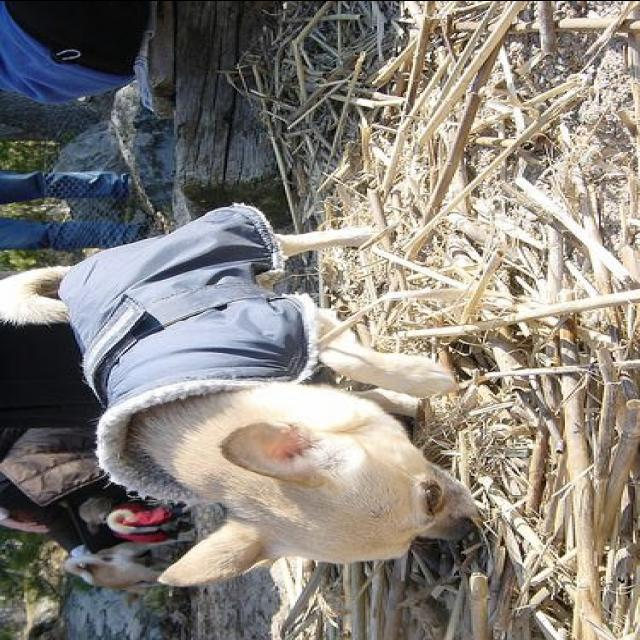chihuahua: (0, 200, 480, 586)
